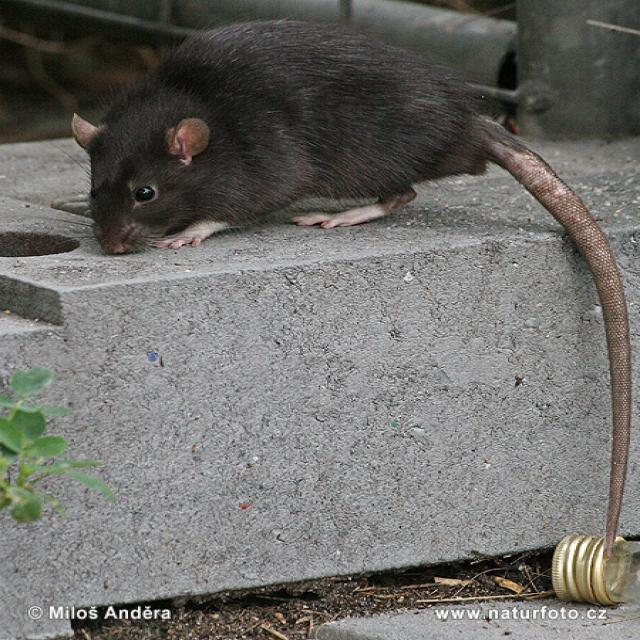rat: (29, 18, 518, 262)
